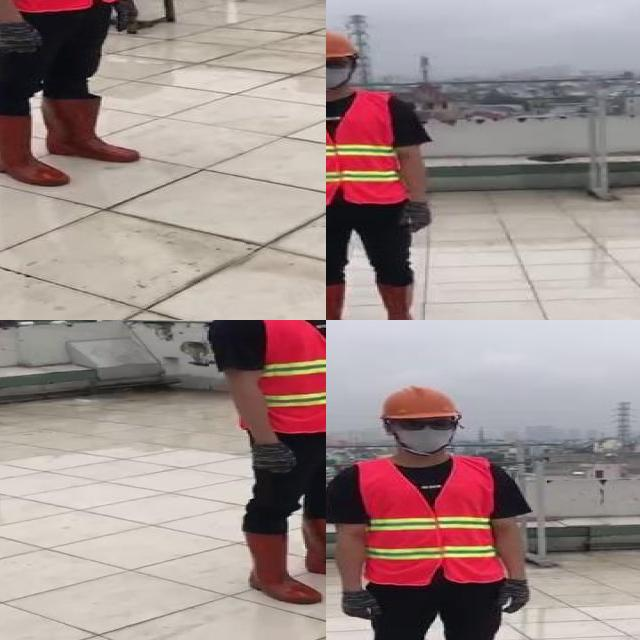boots: (235, 527, 322, 608), (45, 92, 143, 162), (0, 108, 73, 189), (375, 282, 428, 320), (299, 511, 326, 582), (326, 285, 350, 320)
face_mask: (390, 416, 456, 452), (326, 55, 354, 90)
glasses: (393, 415, 461, 433), (326, 55, 354, 71)
hand_glove: (0, 20, 45, 57), (492, 578, 533, 616), (337, 593, 382, 622), (103, 0, 139, 36), (400, 202, 432, 234)
head_helmet: (378, 384, 462, 421), (326, 28, 354, 59)
person: (326, 381, 547, 640), (202, 320, 326, 610), (0, 0, 179, 195), (326, 26, 441, 320)
vest: (355, 455, 506, 588), (209, 320, 326, 435), (326, 91, 405, 206)
